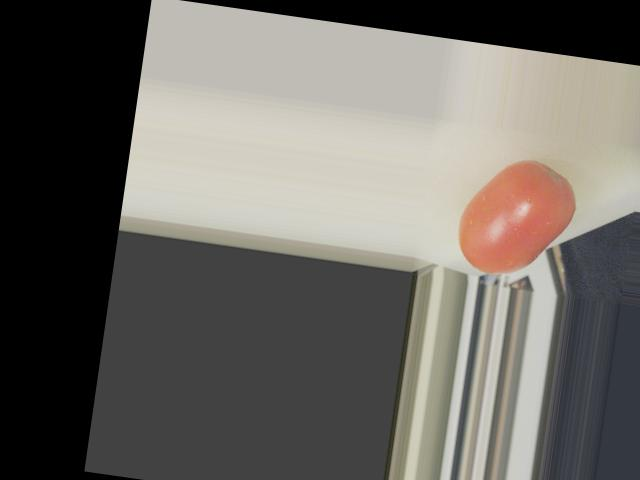tomato: (453, 152, 581, 284)
